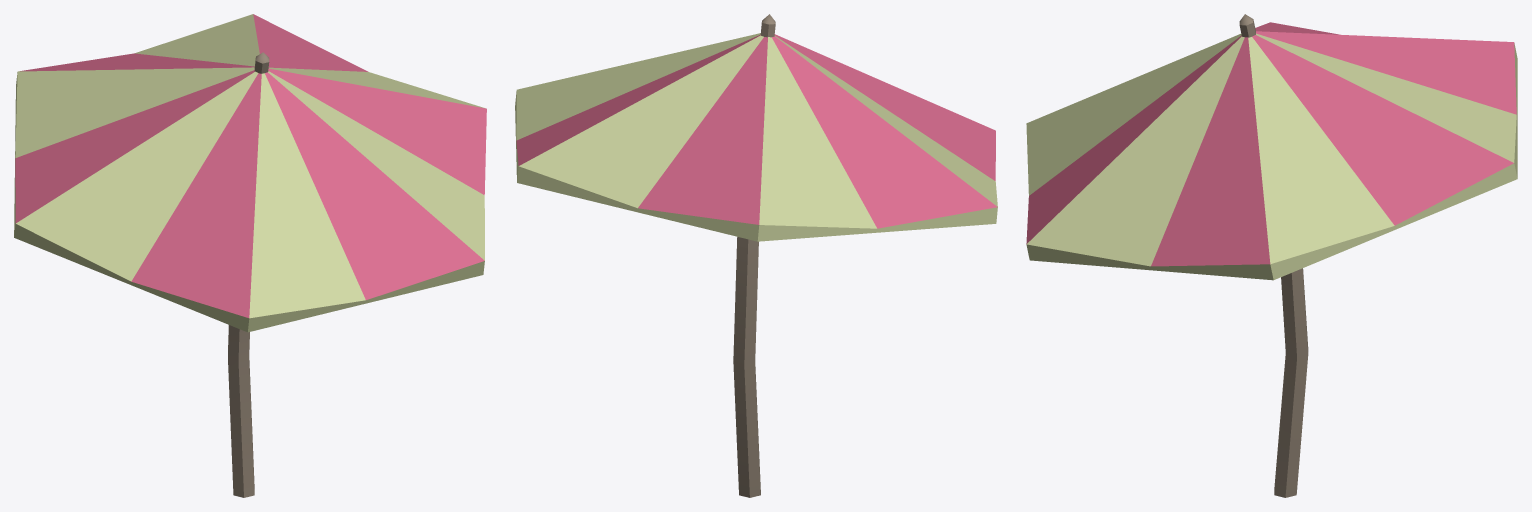
Rendered from umbrella.fbx.
3 views of the same model, side by side, from view 1: azimuth 30°, elevation 25°; view 2: azimuth 150°, elevation 25°; view 3: azimuth 270°, elevation 25° (orthographic). The views are drawn at different scales.
Visible parts, largest first — view 1: pCylinder8; view 2: pCylinder8; view 3: pCylinder8.
Boxes of the visible parts, left/top/right/bottom form: pCylinder8: left=14, top=14, right=486, bottom=497; pCylinder8: left=515, top=14, right=997, bottom=497; pCylinder8: left=1026, top=14, right=1517, bottom=497.
Size of the model in its own units: 0.0357 by 0.0329 by 0.0306.
